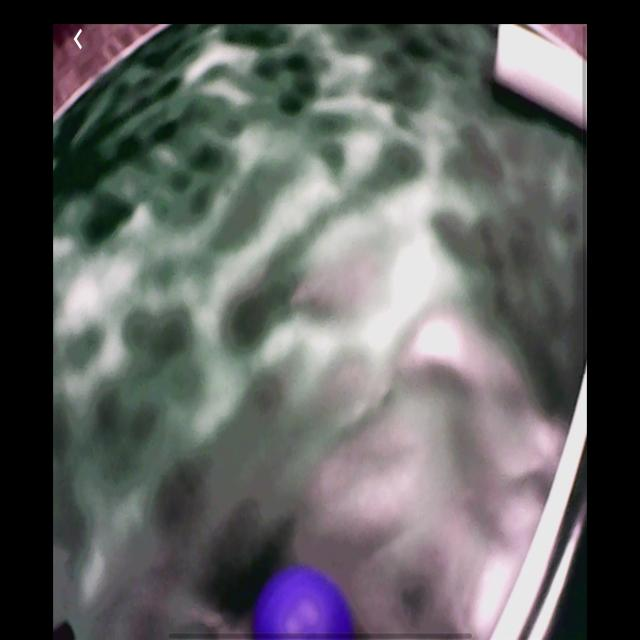ball: (256, 567, 355, 639)
